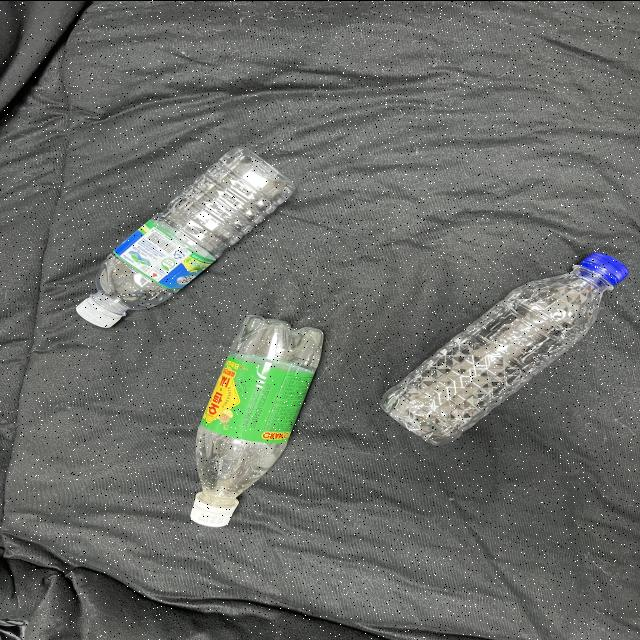plastic: (365, 236, 639, 463), (57, 130, 313, 344), (164, 303, 338, 541)
